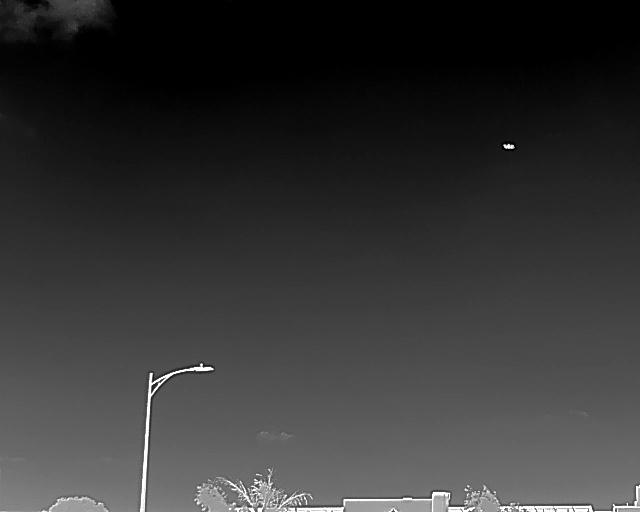fpv-drone: (501, 141, 516, 151)
